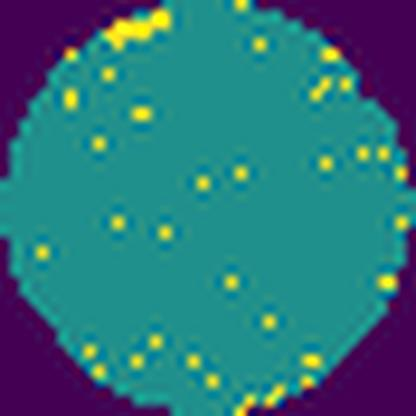Edge-Loc: (94, 4, 175, 54)
